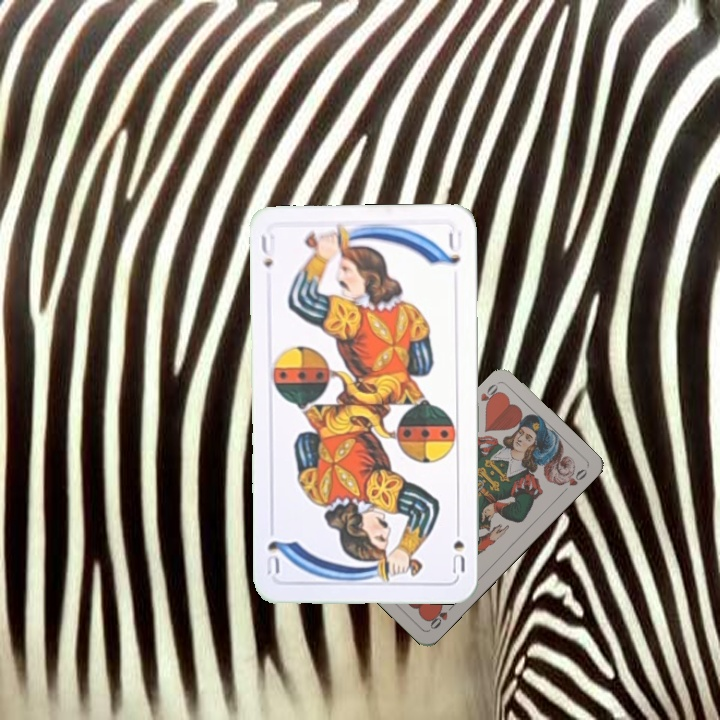HO: (425, 600, 458, 632), (476, 380, 504, 411)
SU: (448, 518, 467, 577), (257, 231, 276, 271)
